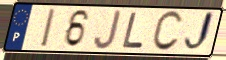6: (62, 9, 90, 50)
C: (150, 9, 185, 54)
I: (39, 7, 58, 49)
J: (182, 10, 216, 55), (92, 9, 123, 51)
L: (121, 11, 146, 50)
